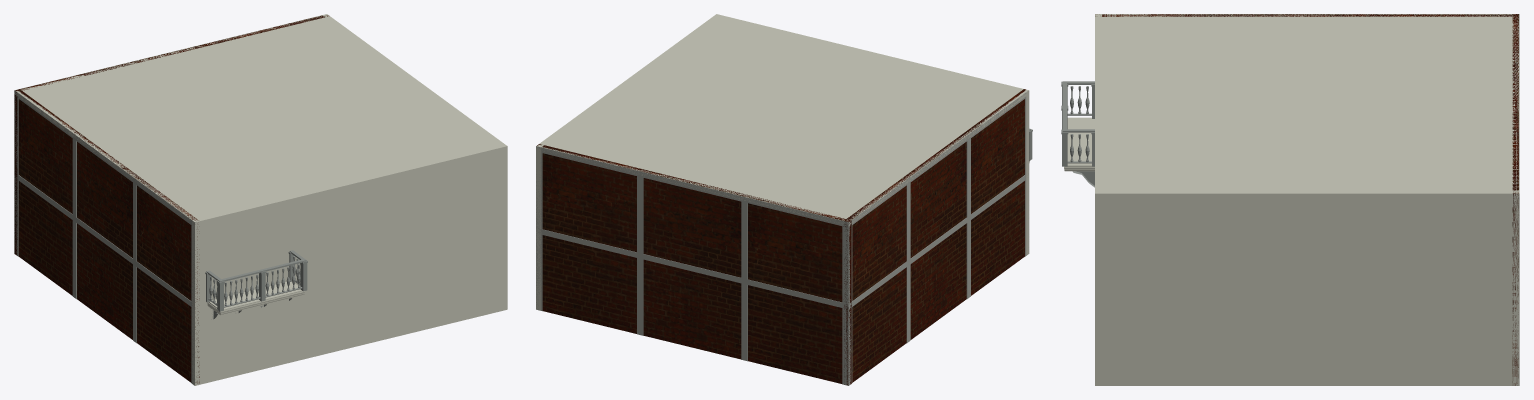
Rendered from building.glb.
3 renders of one model, left to right at view 1: azimuth 30°, elevation 25°; view 2: azimuth 150°, elevation 25°; view 3: azimuth 270°, elevation 25°, orthographic. The views are drawn at different scales.
Parts seen in each view (by area): view 1: roof/house:0/roof_slab#0001, house:0/edge0/z0/house:0/edge0/z0/wall_0_0, house:0/edge3/z0/house:0/edge3/z0/wall_0_0, house:0/edge2/z0/house:0/edge2/z0/wall_0_0, house:0/edge1/z0/house:0/edge1/z0/wall_0_0, house:0/edge3/z0/house:0/edge3/z0/beam_0_0, house:0/edge3/z0/house:0/edge3/z0/beam_1_0, balcony/sample/balcony_platform#0001, balcony/sample/balcony_handrail#0001, balcony/sample/balcony_fascia#0001; view 2: roof/house:0/roof_slab#0001, house:0/edge2/z0/house:0/edge2/z0/wall_0_0, house:0/edge3/z0/house:0/edge3/z0/wall_0_0, house:0/edge2/z0/house:0/edge2/z0/beam_0_0, house:0/edge1/z0/house:0/edge1/z0/wall_0_0, house:0/edge2/z0/house:0/edge2/z0/beam_1_0, house:0/edge0/z0/house:0/edge0/z0/wall_0_0, house:0/edge3/z0/house:0/edge3/z0/beam_0_0, house:0/edge3/z0/house:0/edge3/z0/beam_1_0, house:0/edge2/z0/house:0/edge2/z0/column_1_1, house:0/edge2/z0/house:0/edge2/z0/column_2_0, house:0/edge2/z0/house:0/edge2/z0/column_2_1 (+3 smaller); view 3: house:0/edge1/z0/house:0/edge1/z0/wall_0_0, roof/house:0/roof_slab#0001, house:0/edge0/z0/house:0/edge0/z0/wall_0_0, house:0/edge2/z0/house:0/edge2/z0/wall_0_0, house:0/edge3/z0/house:0/edge3/z0/wall_0_0, balcony/sample/balcony_platform#0001, balcony/sample/balcony_handrail#0001.
Part boxes in pixels (box(x1,y1,x2,y2)): roof/house:0/roof_slab#0001: box(14, 16, 507, 224); house:0/edge0/z0/house:0/edge0/z0/wall_0_0: box(192, 144, 507, 385); house:0/edge3/z0/house:0/edge3/z0/wall_0_0: box(18, 89, 199, 383); house:0/edge2/z0/house:0/edge2/z0/wall_0_0: box(14, 15, 328, 255); house:0/edge1/z0/house:0/edge1/z0/wall_0_0: box(322, 14, 507, 310); house:0/edge3/z0/house:0/edge3/z0/beam_0_0: box(14, 172, 194, 309); house:0/edge3/z0/house:0/edge3/z0/beam_1_0: box(14, 90, 194, 225); balcony/sample/balcony_platform#0001: box(208, 281, 302, 310); balcony/sample/balcony_handrail#0001: box(206, 250, 306, 281); balcony/sample/balcony_fascia#0001: box(207, 291, 304, 315); roof/house:0/roof_slab#0001: box(536, 14, 1028, 225); house:0/edge2/z0/house:0/edge2/z0/wall_0_0: box(537, 144, 851, 384); house:0/edge3/z0/house:0/edge3/z0/wall_0_0: box(843, 89, 1025, 385); house:0/edge2/z0/house:0/edge2/z0/beam_0_0: box(536, 228, 848, 309); house:0/edge1/z0/house:0/edge1/z0/wall_0_0: box(536, 15, 720, 310); house:0/edge2/z0/house:0/edge2/z0/beam_1_0: box(536, 146, 848, 227); house:0/edge0/z0/house:0/edge0/z0/wall_0_0: box(714, 14, 1029, 255); house:0/edge3/z0/house:0/edge3/z0/beam_0_0: box(848, 173, 1028, 309); house:0/edge3/z0/house:0/edge3/z0/beam_1_0: box(848, 90, 1028, 227); house:0/edge2/z0/house:0/edge2/z0/column_1_1: box(842, 226, 848, 303); house:0/edge2/z0/house:0/edge2/z0/column_2_0: box(637, 176, 643, 253); house:0/edge2/z0/house:0/edge2/z0/column_2_1: box(637, 258, 643, 335); house:0/edge1/z0/house:0/edge1/z0/wall_0_0: box(1095, 190, 1519, 385); roof/house:0/roof_slab#0001: box(1095, 14, 1519, 197); house:0/edge0/z0/house:0/edge0/z0/wall_0_0: box(1095, 14, 1101, 385); house:0/edge2/z0/house:0/edge2/z0/wall_0_0: box(1512, 14, 1518, 385); house:0/edge3/z0/house:0/edge3/z0/wall_0_0: box(1095, 14, 1512, 16); balcony/sample/balcony_platform#0001: box(1065, 117, 1094, 166); balcony/sample/balcony_handrail#0001: box(1062, 81, 1094, 132).
Size of the model in its own units: 12 by 6 by 12.95.
4 materials, 1 textured.
